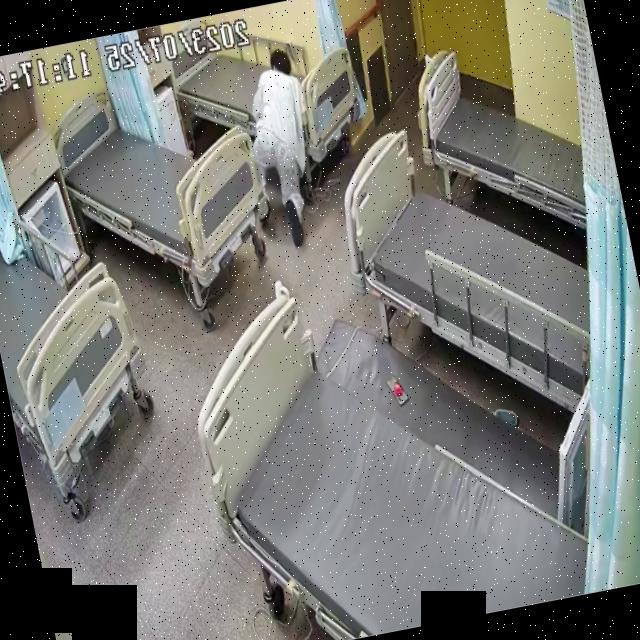bed: (185, 256, 598, 640), (332, 104, 617, 437), (0, 180, 161, 493), (50, 71, 278, 287), (405, 28, 598, 252), (167, 8, 364, 183)
danger: (235, 46, 332, 254)
patient: (232, 44, 338, 257)
